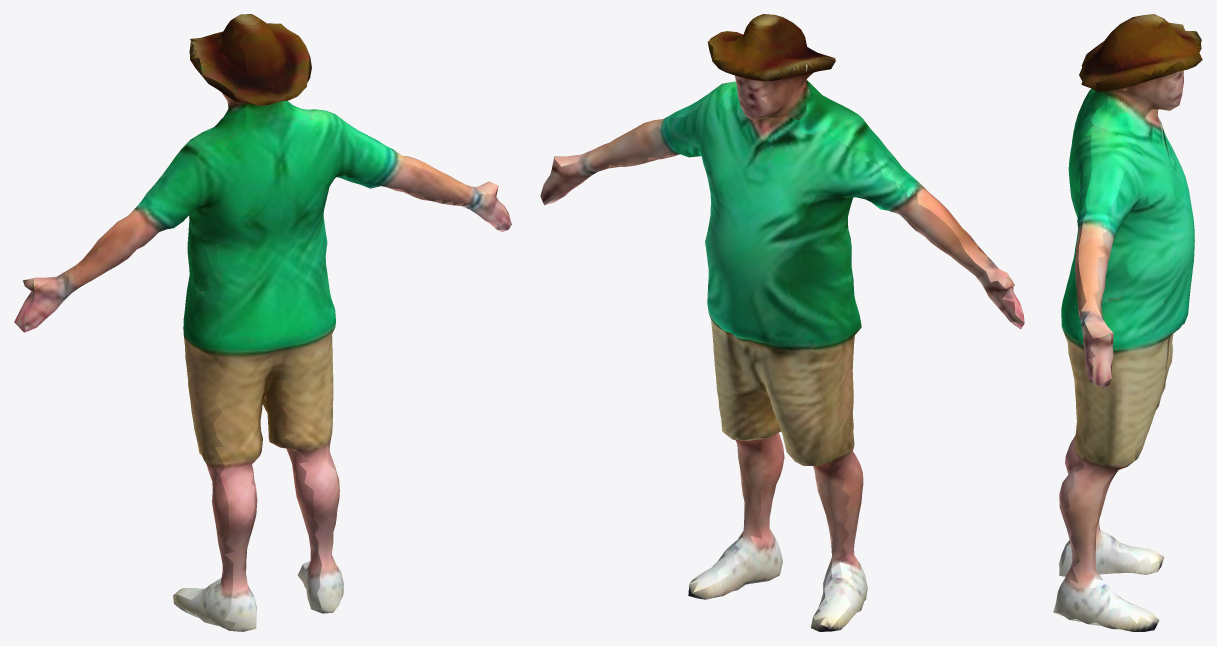
The picture shows the model from 3 angles, left to right: view 1: azimuth 30°, elevation 25°; view 2: azimuth 150°, elevation 25°; view 3: azimuth 270°, elevation 25°; orthographic projection. The views are drawn at different scales.
Parts seen in each view (by area): view 1: world; view 2: world; view 3: world.
Part boxes in pixels (left/top/right/bottom): world: left=14, top=14, right=511, bottom=631; world: left=540, top=14, right=1024, bottom=631; world: left=1053, top=14, right=1202, bottom=631.
Bounding box in the file's own units: 0.8756 × 0.9996 × 0.2333.
1 material, 1 textured.
